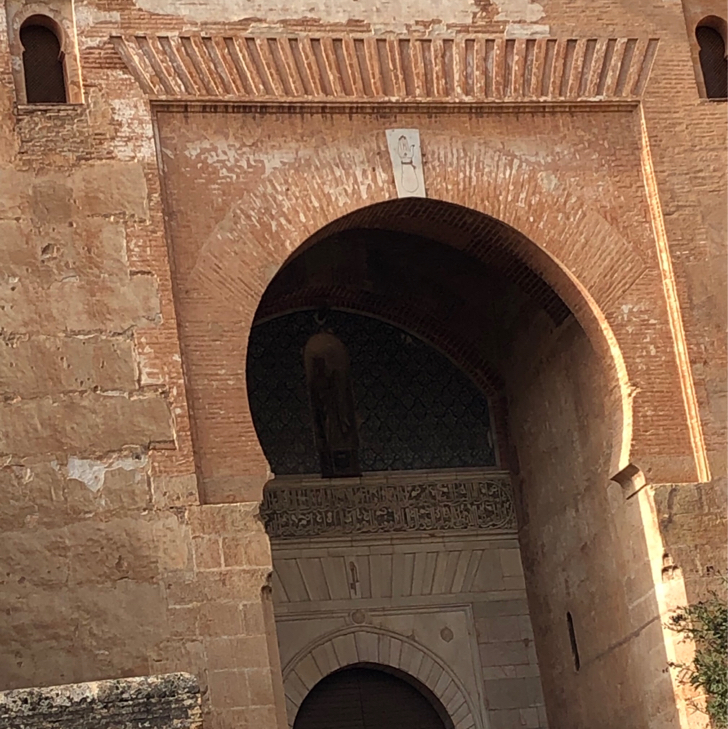arco-herradura: (238, 187, 667, 521), (291, 645, 459, 729), (10, 8, 75, 64), (691, 11, 728, 58)
dintel-adovelado: (109, 30, 661, 102), (271, 545, 489, 607)
